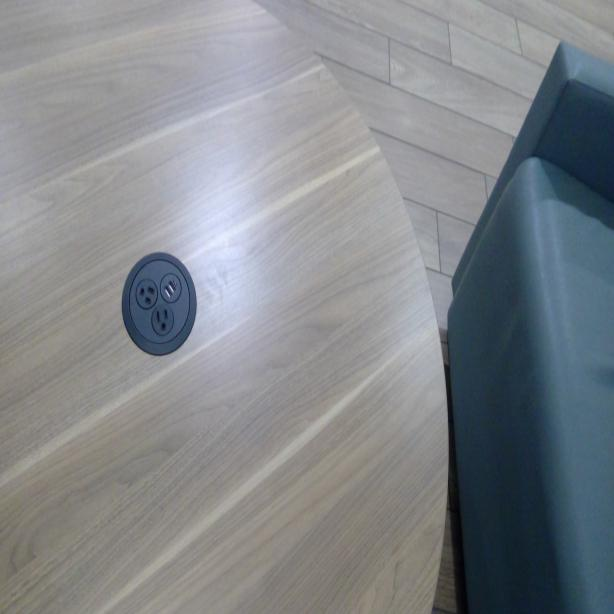typeb: (136, 278, 154, 308), (154, 306, 172, 332)
